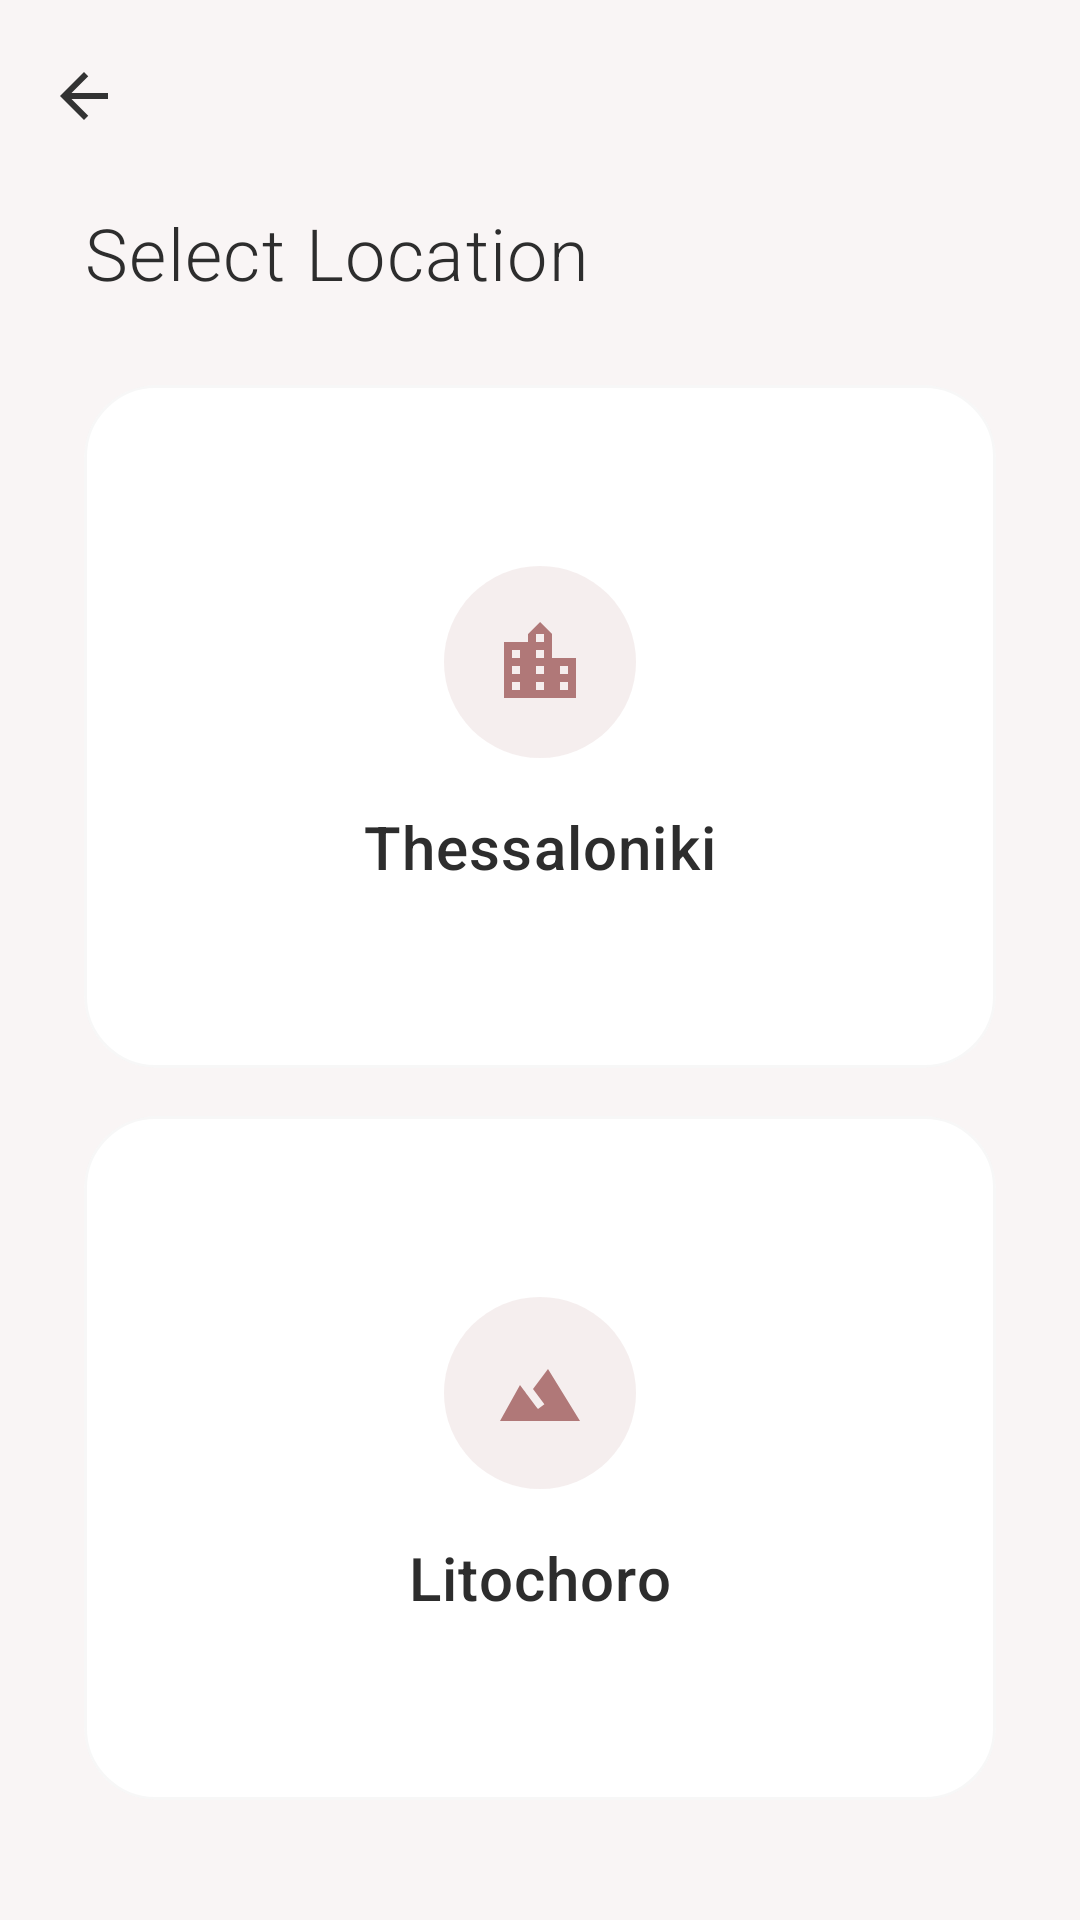

Where icons sit on this 1080px×1920px app screen, as detection(x1, y1, x2, y2):
location city: detection(504, 622, 576, 698)
location mountain: detection(500, 1369, 580, 1421)
